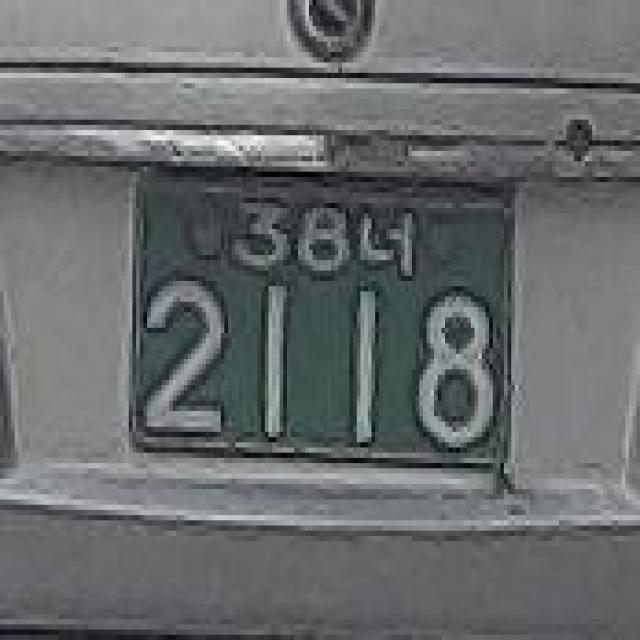illegal_plate: (116, 139, 534, 504)
